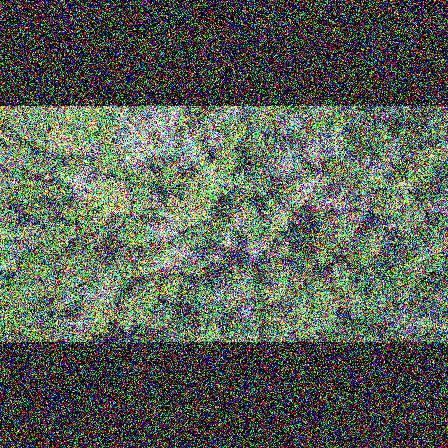Dead: (302, 134, 346, 167), (80, 277, 125, 309), (107, 112, 148, 147), (385, 303, 428, 336), (373, 138, 408, 177), (70, 162, 101, 206), (255, 148, 299, 177), (290, 171, 324, 208), (320, 187, 368, 212), (358, 316, 406, 341), (148, 195, 182, 223), (364, 216, 401, 240), (138, 132, 165, 164), (182, 132, 209, 163), (277, 111, 304, 141), (56, 313, 93, 333), (154, 129, 179, 158), (374, 106, 406, 128), (141, 226, 182, 243), (324, 210, 365, 227), (78, 136, 106, 158), (149, 106, 170, 135), (170, 110, 188, 142), (243, 240, 270, 261), (217, 230, 244, 251), (205, 115, 221, 150), (236, 303, 263, 322), (203, 248, 224, 271), (149, 256, 178, 272), (231, 210, 248, 233), (172, 244, 198, 259)
